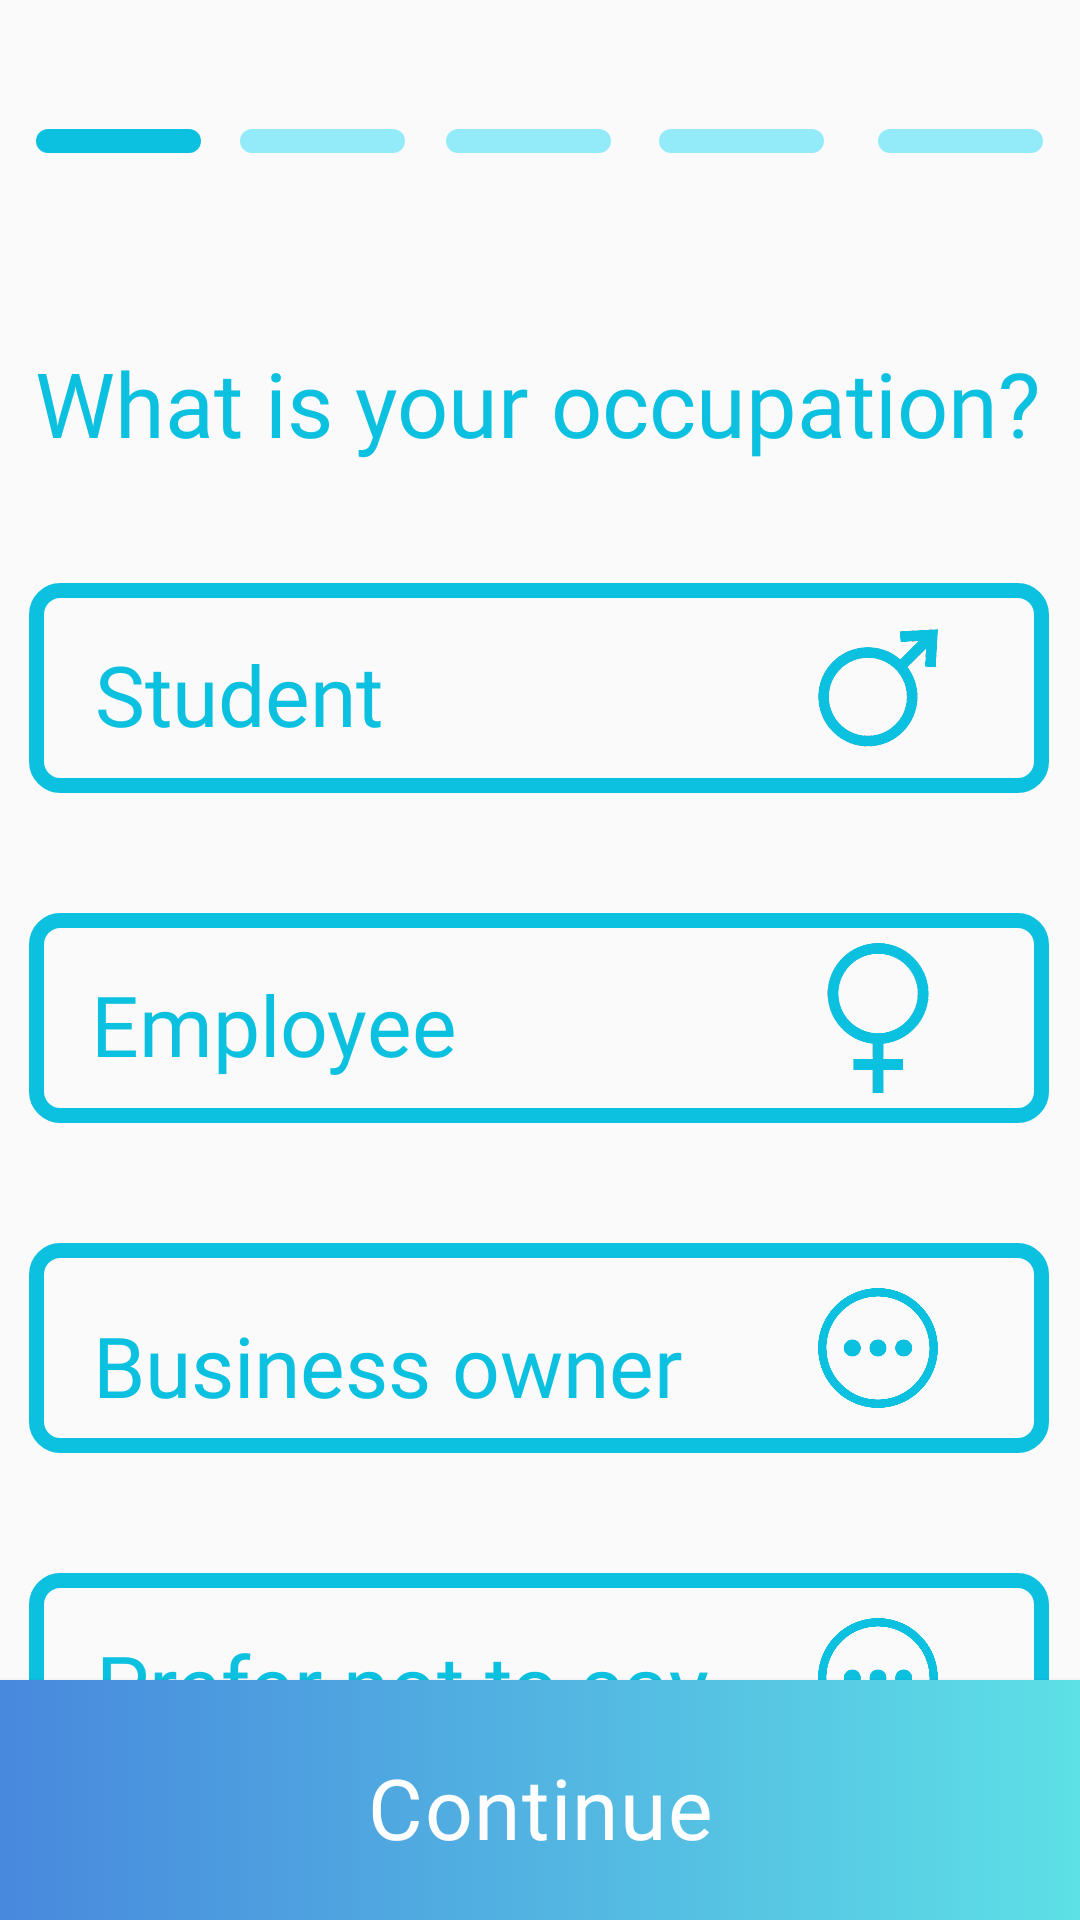

Screen size 1080w x 1920h. Icon name, then its center in pixels as [x,y]:
female: [878,1018]
male: [878,688]
